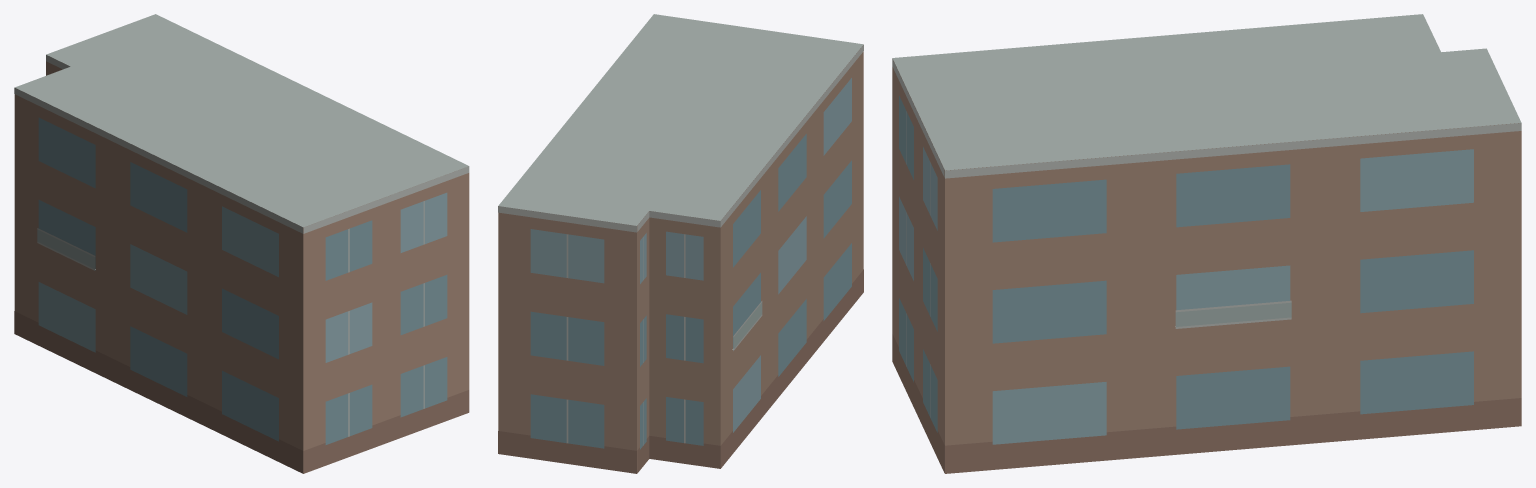
Rendered from survey-upis-32707324.glb.
3 renders of one model, left to right at view 1: azimuth 30°, elevation 25°; view 2: azimuth 150°, elevation 25°; view 3: azimuth 270°, elevation 25°, orthographic. The views are drawn at different scales.
Parts seen in each view (by area): view 1: survey-upis-32707324.tmp; view 2: survey-upis-32707324.tmp; view 3: survey-upis-32707324.tmp.
Part boxes in pixels (left/top/right/bottom): survey-upis-32707324.tmp: left=14, top=14, right=469, bottom=473; survey-upis-32707324.tmp: left=498, top=14, right=863, bottom=473; survey-upis-32707324.tmp: left=892, top=14, right=1521, bottom=473.
Size of the model in its own units: 10.13 by 9.15 by 17.21.
